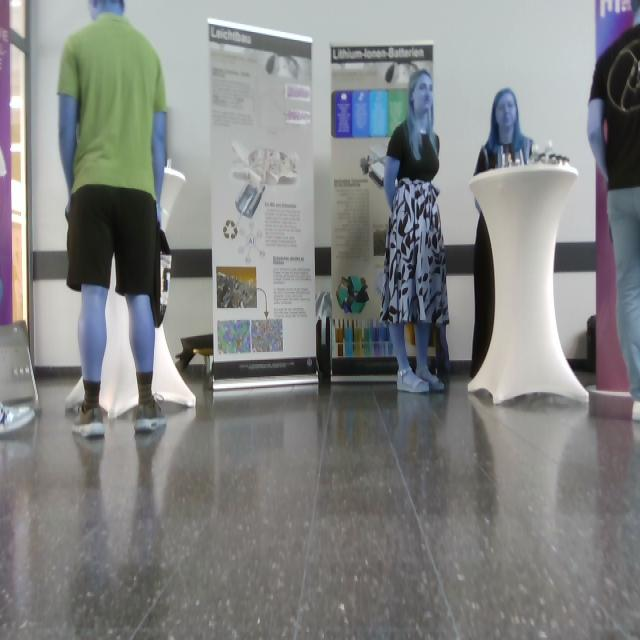banner: (209, 20, 318, 389), (331, 45, 432, 382), (597, 165, 629, 392), (1, 1, 13, 325), (596, 1, 633, 60)
person: (59, 1, 167, 437), (382, 70, 449, 393)
table: (469, 164, 588, 404), (588, 1, 640, 420), (100, 265, 139, 418), (155, 326, 195, 406), (162, 168, 186, 233)
tiled floor: (1, 364, 640, 640)
